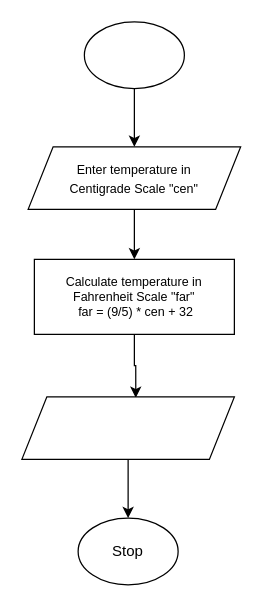
This 263x608 diagram has some shape labels left out. The box of each missing label's shape, as (x1, y1, x2, y2) in pixels:
Print "far": (21, 396, 234, 459)
Start: (83, 21, 184, 88)
